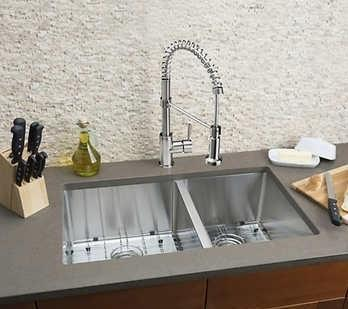Lavaplatos: (42, 38, 327, 276)
